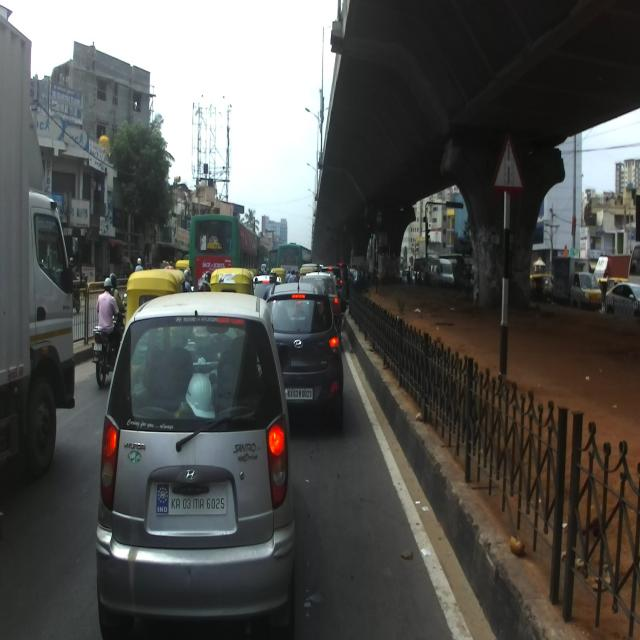autorickshaw: (125, 268, 186, 332), (210, 266, 258, 305), (174, 260, 190, 273)
bus: (188, 213, 260, 292), (276, 241, 312, 282)
car: (93, 290, 294, 640), (265, 280, 345, 430)
mini-bus: (424, 257, 454, 288)
motorcycle: (90, 291, 128, 389)
